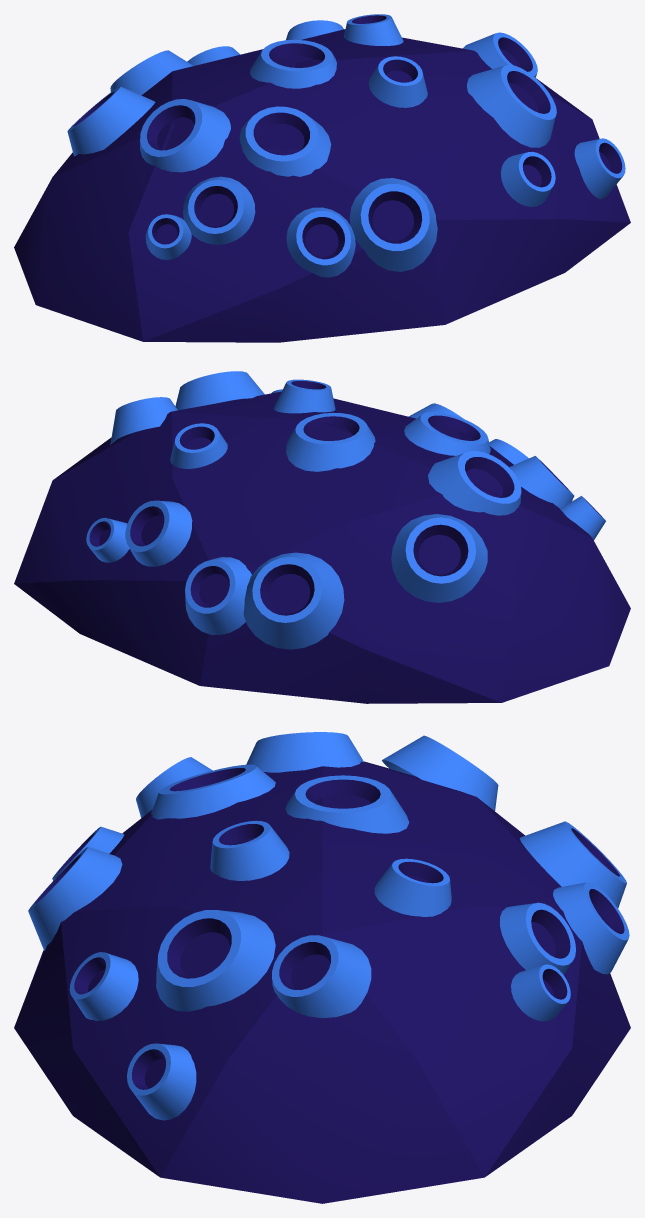
File: coral_blue_big.fbx
3 renders of one model, top to bottom at view 1: azimuth 30°, elevation 25°; view 2: azimuth 150°, elevation 25°; view 3: azimuth 270°, elevation 25°, orthographic. The views are drawn at different scales.
Visible parts, largest first — view 1: mergedBlocks; view 2: mergedBlocks; view 3: mergedBlocks.
Boxes of the visible parts, x1,y1,x2,y2 form: mergedBlocks: (14,14,630,342); mergedBlocks: (14,371,630,703); mergedBlocks: (14,732,630,1203).
Bounding box in the file's own units: 17 × 5.15 × 12.6.
